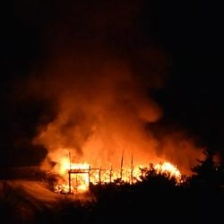fire: (49, 151, 189, 193)
smoke: (41, 62, 171, 149)
